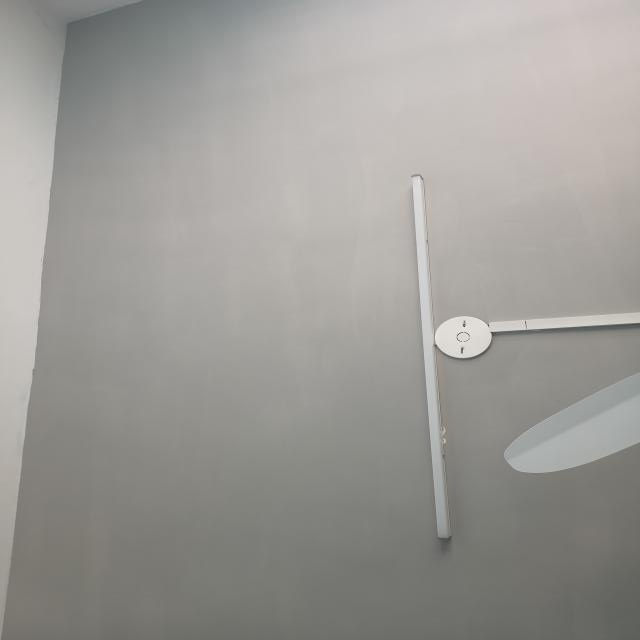fluorescent tube: (382, 163, 468, 556)
